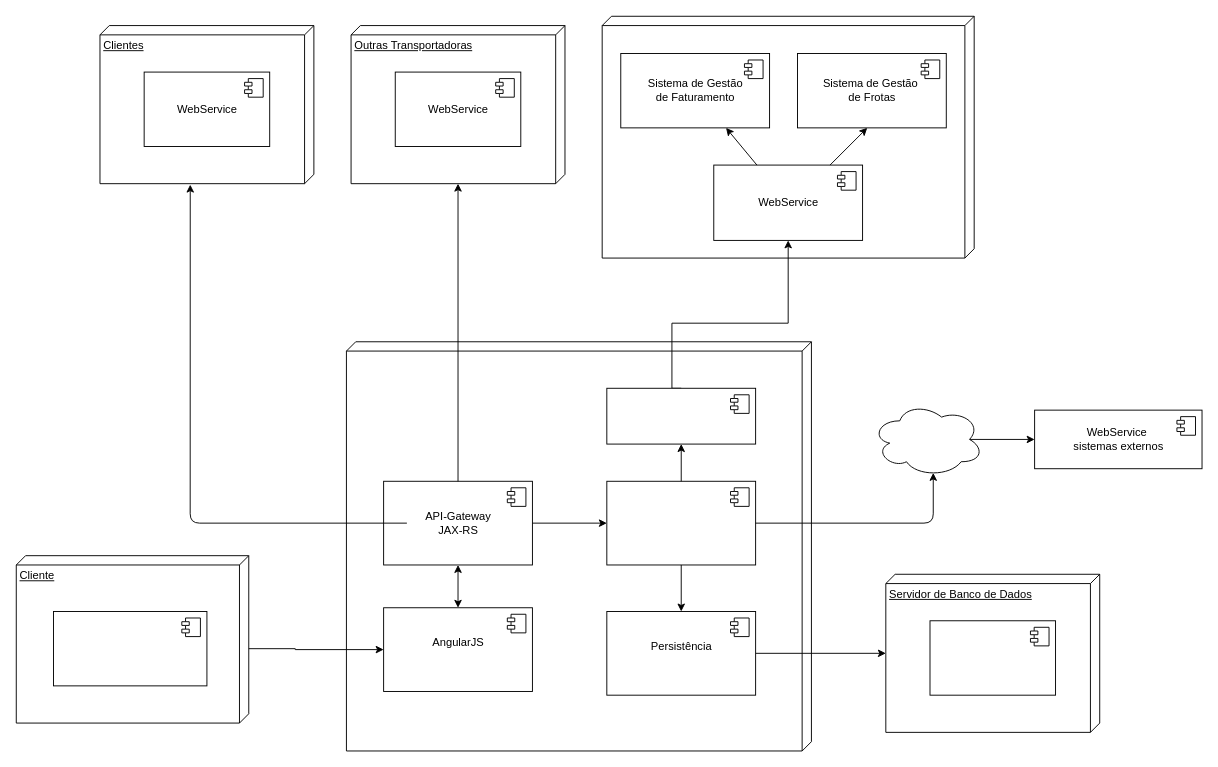
This 1218x767 diagram has some shape labels left out. Here are the shapes that lost their labels. From the top down, the box of each, then its label:
(601, 15, 974, 258): Mainframe
(606, 387, 756, 444): ESB
(871, 401, 983, 477): INTERNET
(606, 480, 756, 565): Componente EJB
(345, 341, 811, 751): Application Server
(53, 611, 207, 686): Browser
(929, 620, 1056, 695): PostgreSql
